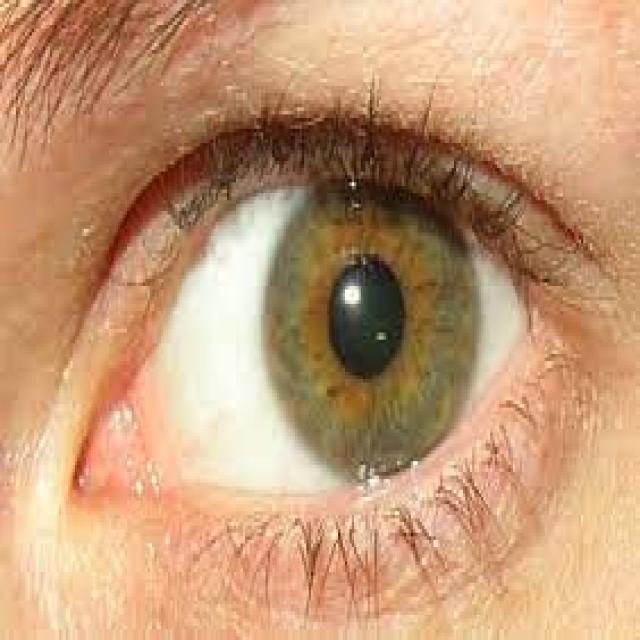Eyes-iris: (246, 163, 492, 494)
